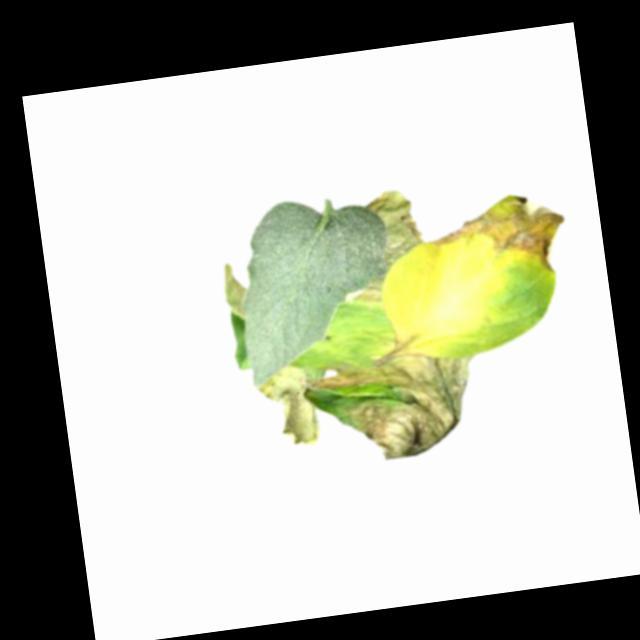Late_blight: (299, 343, 488, 471), (426, 188, 571, 289), (253, 363, 322, 457), (363, 186, 423, 254), (349, 249, 413, 309), (219, 261, 247, 323)
healthy: (230, 188, 405, 387)
